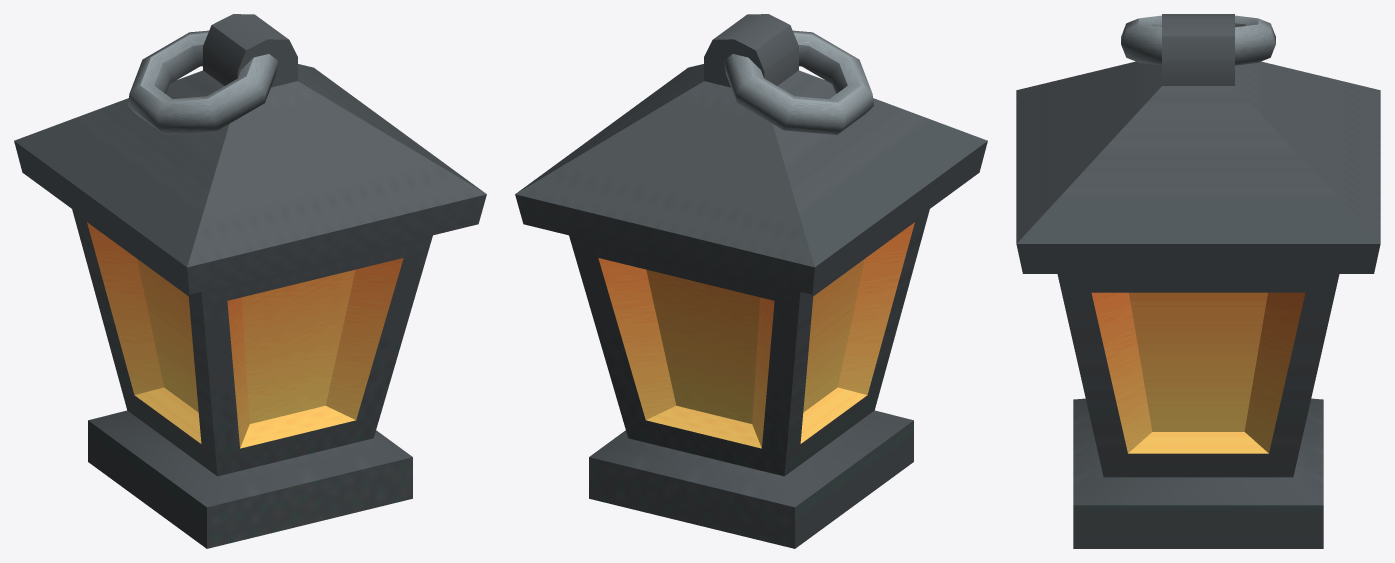
Rendered from lantern-standing.glb.
The picture shows the model from 3 angles, left to right: view 1: azimuth 30°, elevation 25°; view 2: azimuth 150°, elevation 25°; view 3: azimuth 270°, elevation 25°; orthographic projection. The views are drawn at different scales.
Visible parts, largest first — view 1: lantern_standing; view 2: lantern_standing; view 3: lantern_standing.
Boxes of the visible parts, x1=… form: lantern_standing: x1=14, y1=14, x2=486, y2=548; lantern_standing: x1=515, y1=14, x2=987, y2=548; lantern_standing: x1=1016, y1=14, x2=1380, y2=548.
Bounding box in the file's own units: 0.64 × 0.9252 × 0.64.
Materials: 1 (1 with a texture image).
